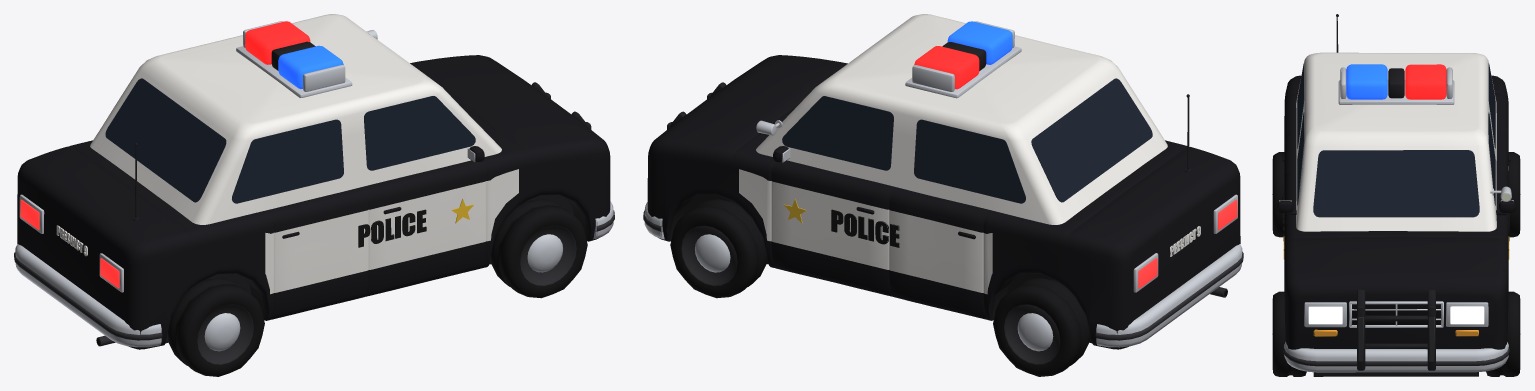
The model's file is cop_car.glb.
The picture shows the model from 3 angles, left to right: view 1: azimuth 30°, elevation 25°; view 2: azimuth 150°, elevation 25°; view 3: azimuth 270°, elevation 25°; orthographic projection. The views are drawn at different scales.
Visible parts, largest first — view 1: Body, WheelRR_Tire, WheelFR_Tire, LightRed, LightBlue; view 2: Body, WheelRL_Tire, WheelFL_Tire, LightBlue, LightRed; view 3: Body, LightBlue, LightRed, Headlights, WheelFR_Tire, WheelFL_Tire, WheelRR_Tire, WheelRL_Tire.
Boxes of the visible parts, x1=… form: Body: x1=14, y1=14, x2=614, y2=349; WheelRR_Tire: x1=168, y1=278, x2=264, y2=376; WheelFR_Tire: x1=491, y1=199, x2=587, y2=298; LightRed: x1=245, y1=21, x2=310, y2=64; LightBlue: x1=278, y1=45, x2=343, y2=88; Body: x1=643, y1=14, x2=1243, y2=349; WheelRL_Tire: x1=993, y1=278, x2=1089, y2=376; WheelFL_Tire: x1=670, y1=199, x2=766, y2=298; LightBlue: x1=947, y1=21, x2=1012, y2=64; LightRed: x1=914, y1=46, x2=979, y2=89; Body: x1=1277, y1=14, x2=1515, y2=376; LightBlue: x1=1346, y1=64, x2=1387, y2=99; LightRed: x1=1405, y1=64, x2=1446, y2=99; Headlights: x1=1308, y1=306, x2=1484, y2=324; WheelFR_Tire: x1=1272, y1=291, x2=1306, y2=376; WheelFL_Tire: x1=1486, y1=291, x2=1520, y2=376; WheelRR_Tire: x1=1272, y1=152, x2=1284, y2=237; WheelRL_Tire: x1=1508, y1=152, x2=1520, y2=237.
Bounding box in the file's own units: 4.39 × 2.06 × 2.1.
